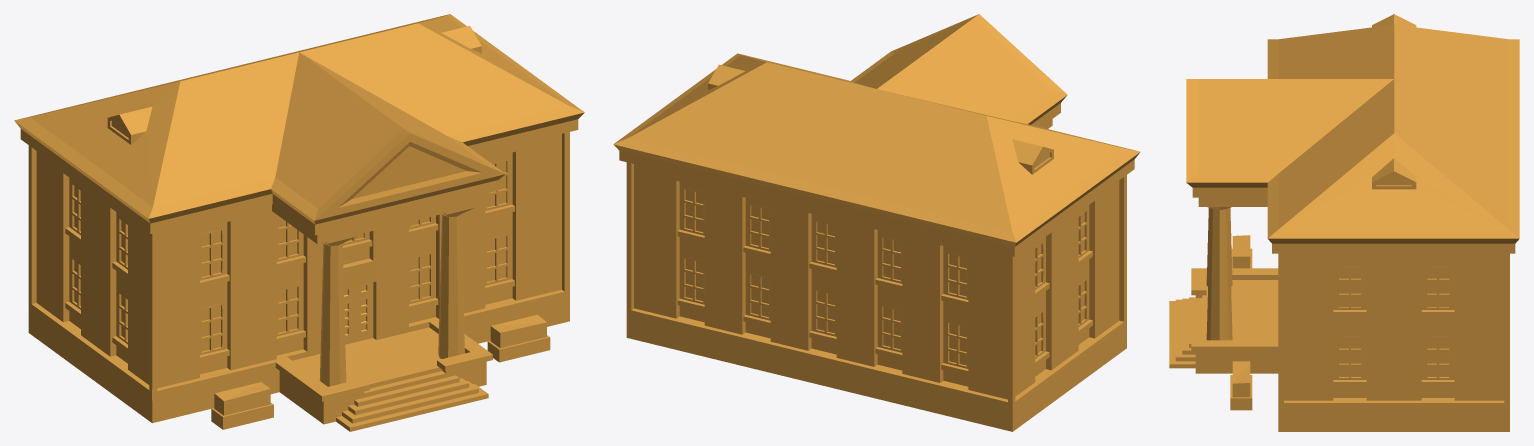
Rendered from building-museum.fbx.
The picture shows the model from 3 angles, left to right: view 1: azimuth 30°, elevation 25°; view 2: azimuth 150°, elevation 25°; view 3: azimuth 270°, elevation 25°; orthographic projection. The views are drawn at different scales.
Parts seen in each view (by area): view 1: building-museum; view 2: building-museum; view 3: building-museum.
Boxes of the visible parts, x1=… form: building-museum: x1=14, y1=14, x2=584, y2=431; building-museum: x1=613, y1=14, x2=1140, y2=431; building-museum: x1=1169, y1=14, x2=1519, y2=431.
Size of the model in its own units: 21.41 by 12.89 by 15.9.
